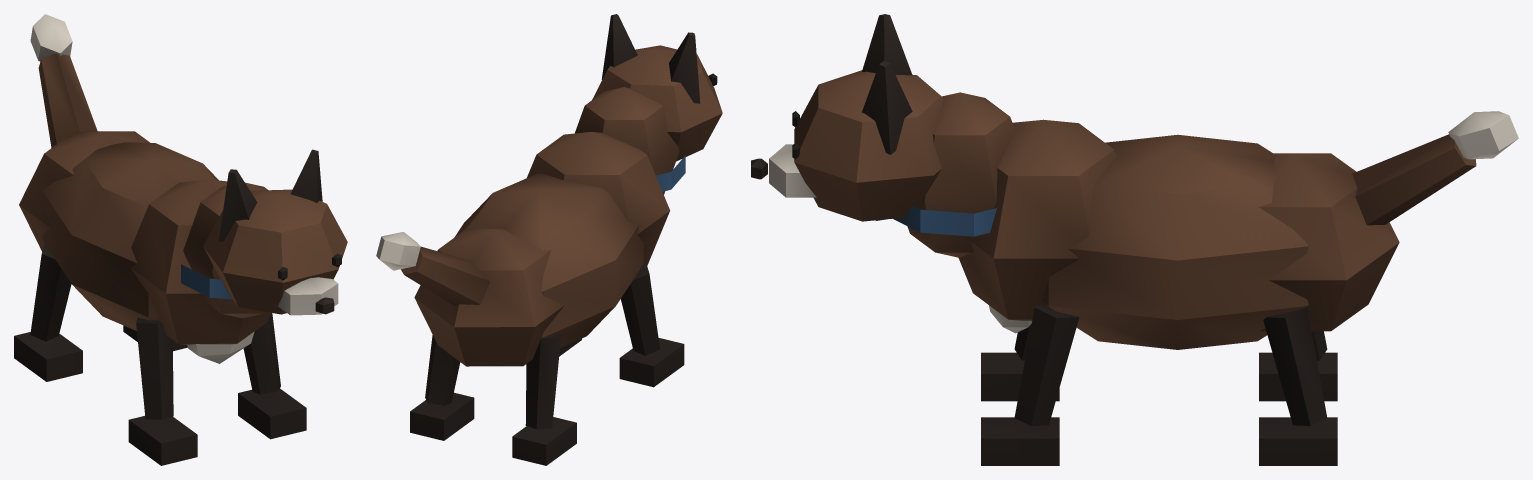
The model's file is animals-dog.glb.
3 views of the same model, side by side, from view 1: azimuth 30°, elevation 25°; view 2: azimuth 150°, elevation 25°; view 3: azimuth 270°, elevation 25° (orthographic). The views are drawn at different scales.
Visible parts, largest first — view 1: SM_animal_dog; view 2: SM_animal_dog; view 3: SM_animal_dog.
Boxes of the visible parts, <box> form: SM_animal_dog: <box>14,14,347,465</box>; SM_animal_dog: <box>376,14,722,465</box>; SM_animal_dog: <box>751,14,1518,465</box>.
Size of the model in its own units: 0.49 by 0.9154 by 1.66.
